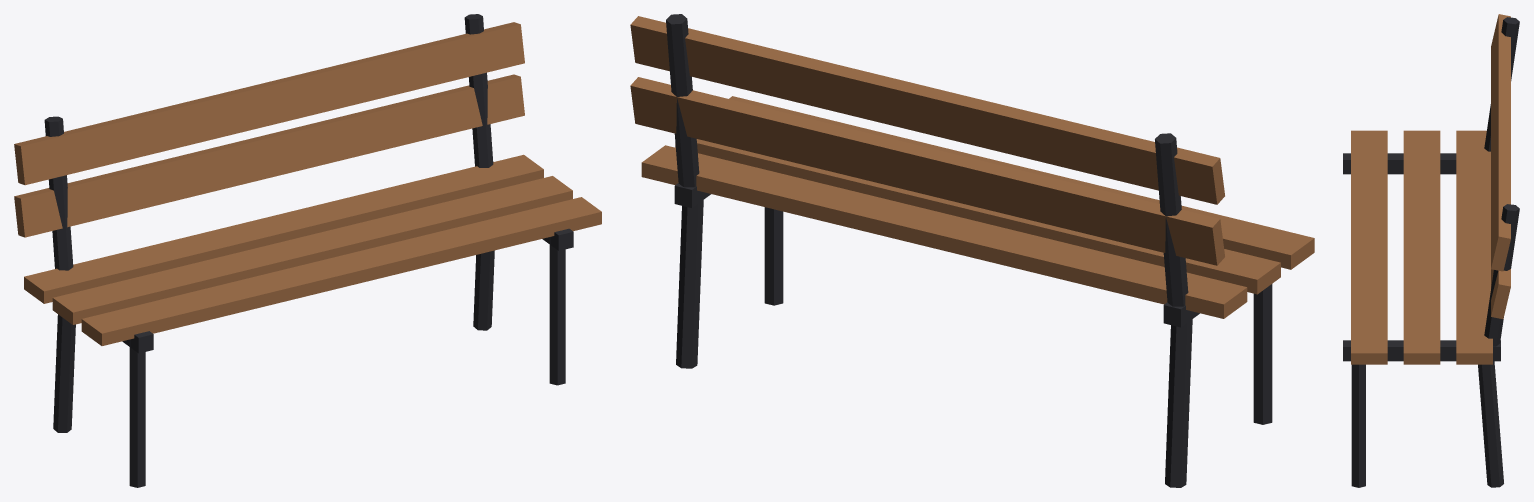
The model's file is Bench.fbx.
3 renders of one model, left to right at view 1: azimuth 30°, elevation 25°; view 2: azimuth 150°, elevation 25°; view 3: azimuth 270°, elevation 25°, orthographic. The views are drawn at different scales.
Parts seen in each view (by area): view 1: Wood, Iron; view 2: Wood, Iron; view 3: Wood, Iron.
Part boxes in pixels (x1,y1,x2,y2): Wood: (14,22,601,345); Iron: (44,14,573,487); Wood: (630,16,1314,318); Iron: (666,14,1272,487); Wood: (1351,14,1510,364); Iron: (1343,17,1519,487).
Size of the model in its own units: 5 by 2.92 by 1.68.
